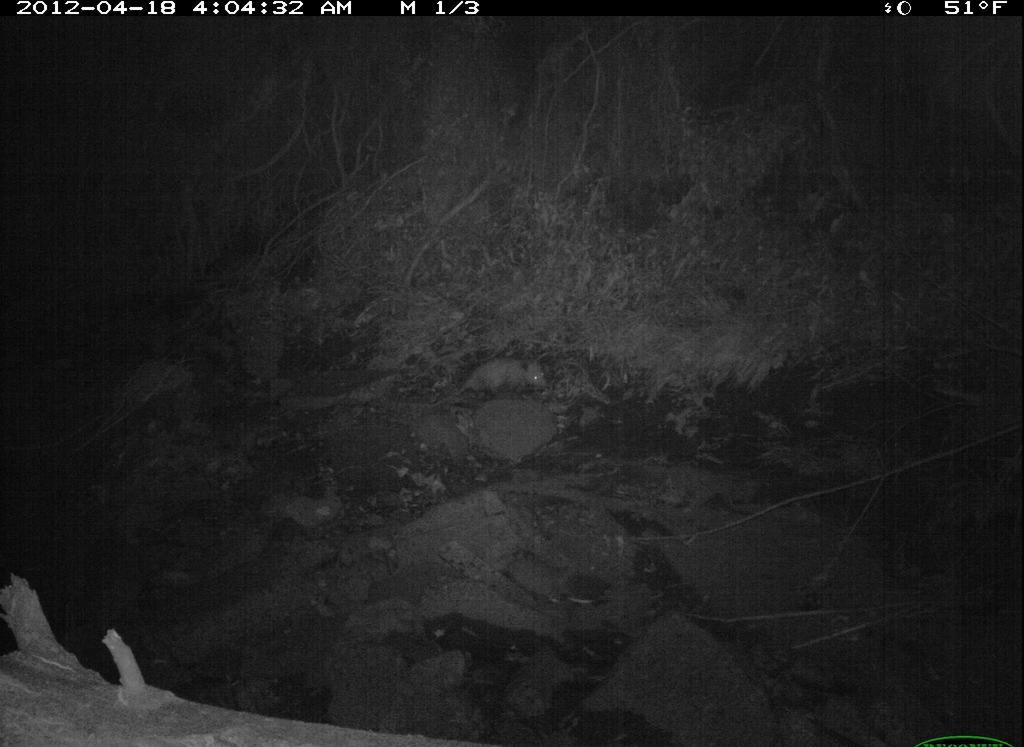opossum: (404, 344, 574, 417)
